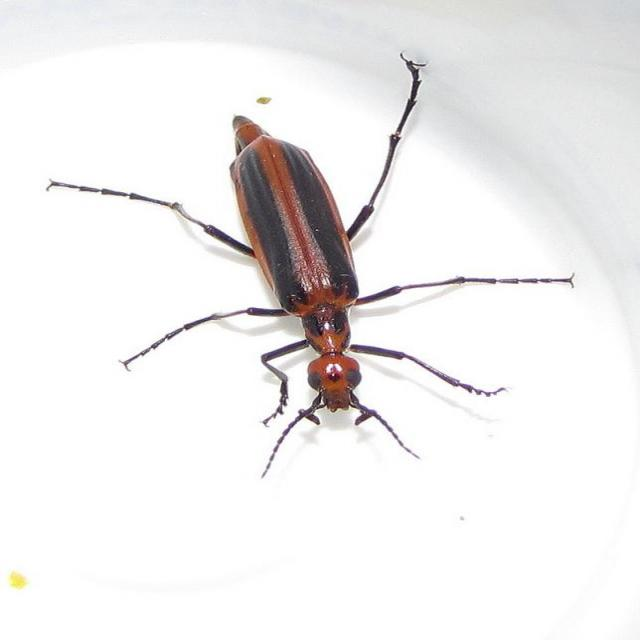BlisterBeetle-Adult-: (27, 48, 579, 466)
